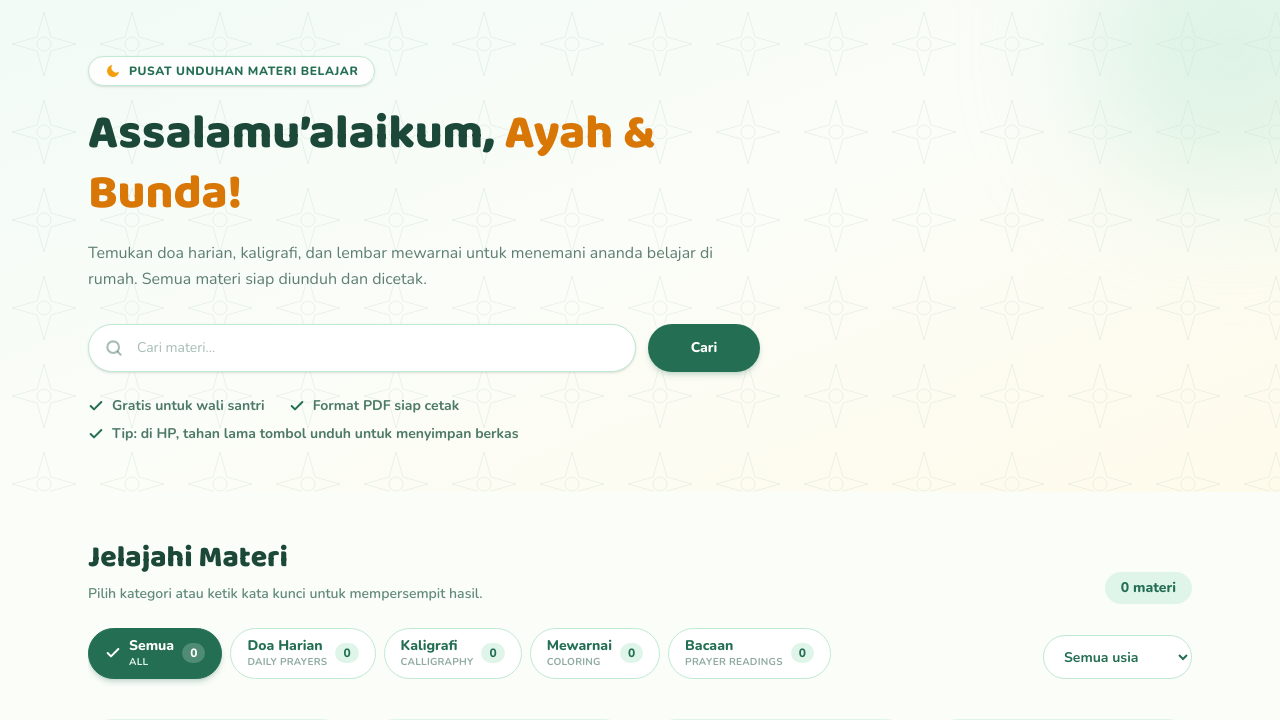
it: ResourcesDashboard (public resources page) › keeps age-group filtering working as a secondary control
The image size is (1280, 720).
Select "TPA (7–12 th)" in the dropdown named "Kelompok usia" at [1118, 657], box [1043,635,1192,679]
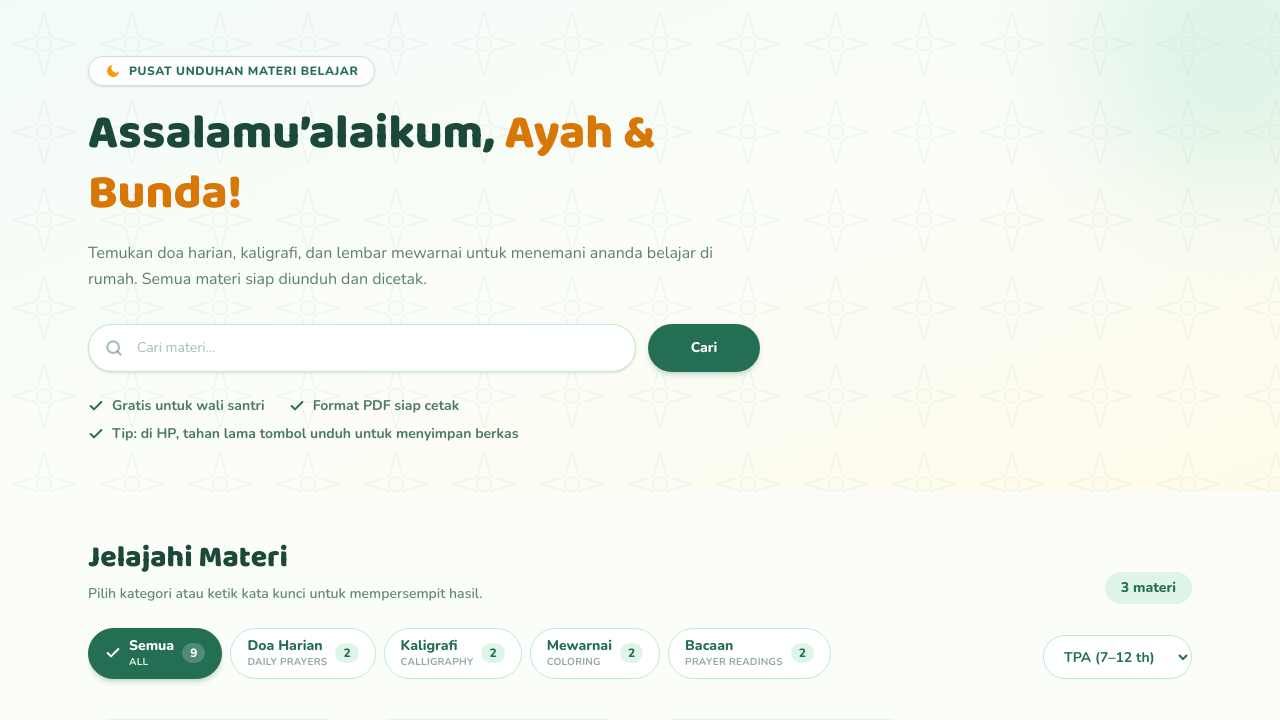
Now the text "3 materi" is shown, box [1105,572,1192,604]
